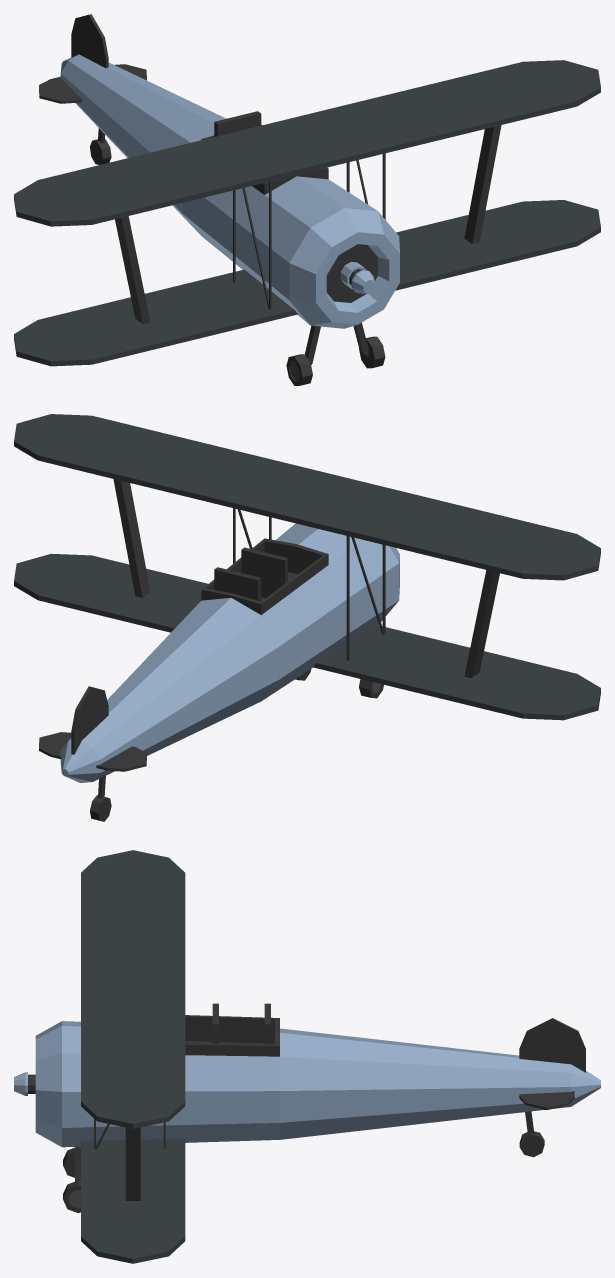
3 renders of one model, top to bottom at view 1: azimuth 30°, elevation 25°; view 2: azimuth 150°, elevation 25°; view 3: azimuth 270°, elevation 25°, orthographic. The views are drawn at different scales.
Parts seen in each view (by area): view 1: Plane_01; view 2: Plane_01; view 3: Plane_01.
Part boxes in pixels (x1,y1,x2,y2): Plane_01: (14,14,600,385); Plane_01: (14,414,600,821); Plane_01: (14,850,600,1263).
Size of the model in its own units: 642 by 226 by 581.
